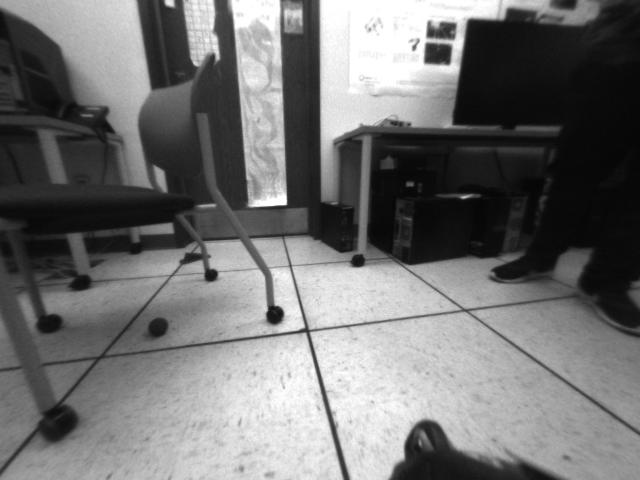dogtoy: (144, 311, 178, 341)
